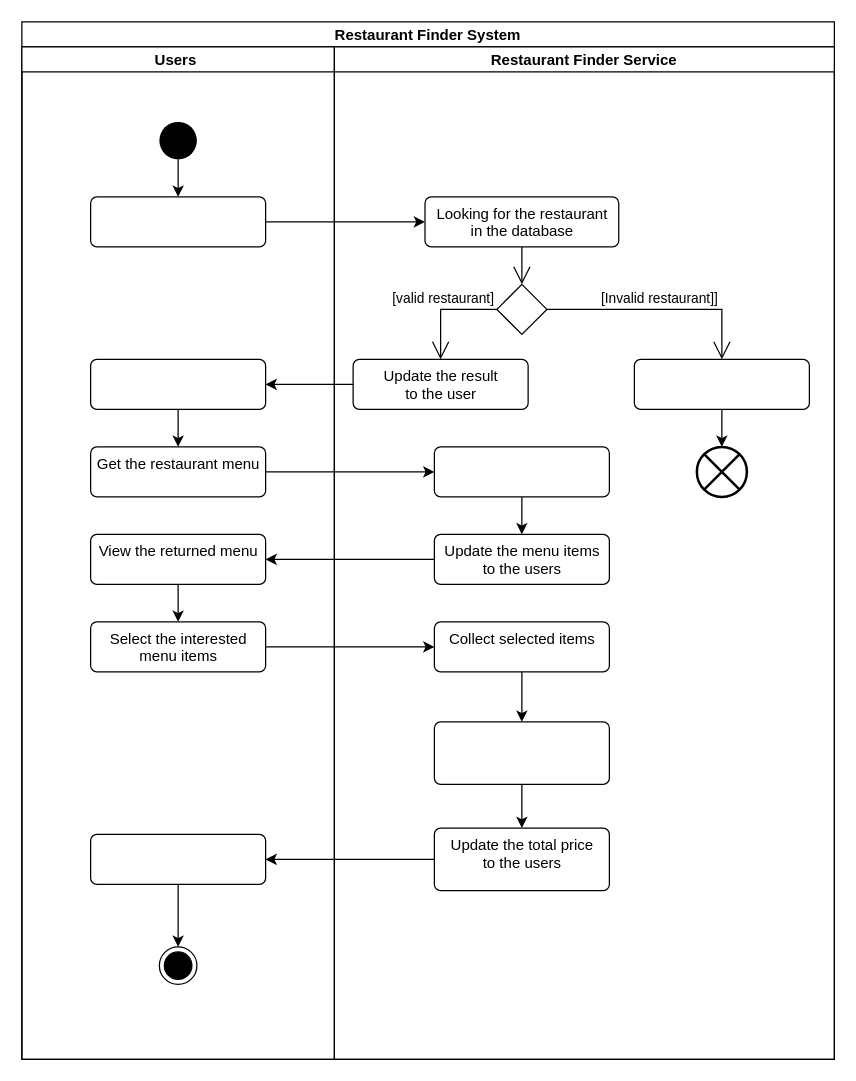
The diagram is 856 pixels wide and 1081 high, and some of its shapes have lost their labels. The shapes that lost their labels are listed below. From the top down, each one's box as (x1, y1, x2, y2) in pixels, then its label:
(89, 196, 266, 247): Input the restaurant name
(89, 358, 266, 409): view the result
(633, 358, 809, 409): Notify users about the invalid search
(433, 446, 609, 497): Looking for the menu items
(433, 721, 609, 784): Calculate the total price from the collected items
(89, 833, 266, 884): View the total price
